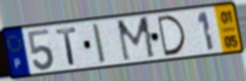1: (197, 10, 217, 52)
5: (27, 27, 56, 72)
D: (155, 14, 188, 58)
I: (90, 22, 108, 66)
M: (115, 15, 158, 64)
T: (55, 26, 79, 67)
